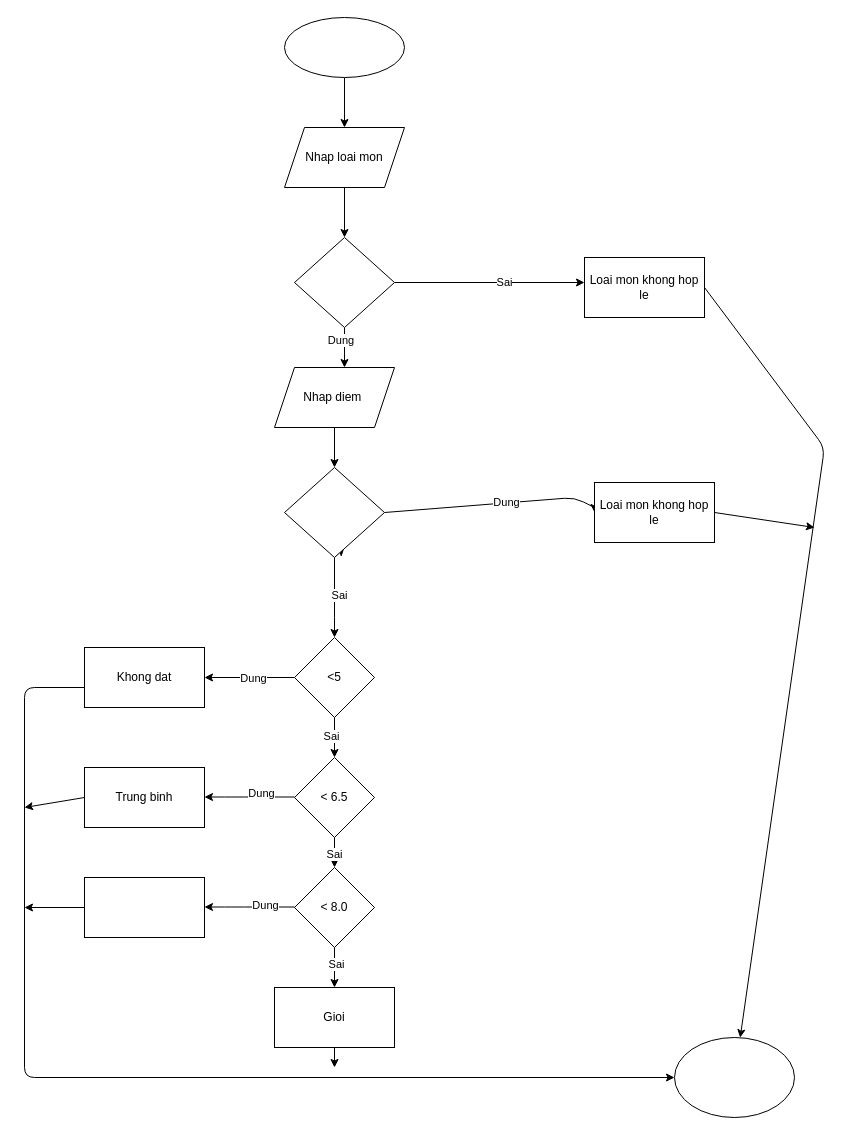
Some shapes in this 850 by 1135 pixel diagram are drawn without their labels. The shapes that lost their labels are listed below. From the top down, each one's centre as x and y in pixels, then its label:
At [344,47]: "Start".
At [344,282]: "loai mon ==1 or loai mon ==2".
At [334,512]: "Diem <0 or > 10".
At [144,907]: "Kha".
At [734,1077]: "End".
